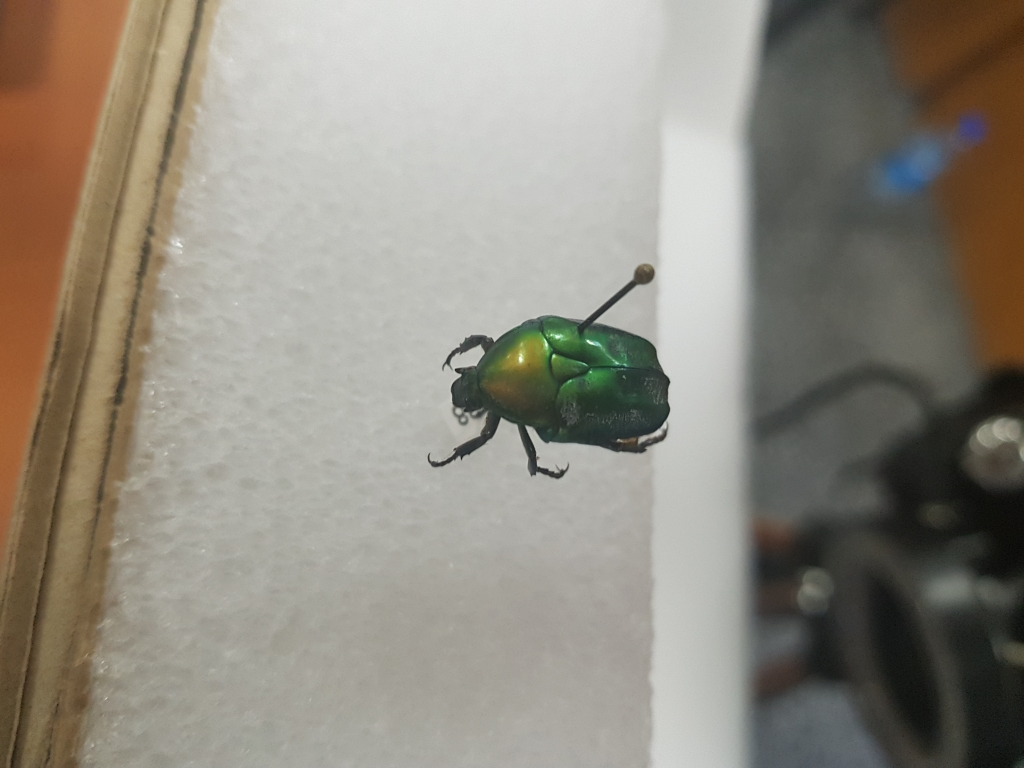Protaetia_cuprea_ignicollis: (429, 313, 677, 484)
